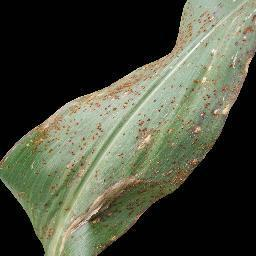Corn_Common_Rust: (32, 88, 245, 128), (0, 129, 223, 167), (175, 0, 256, 89), (22, 204, 155, 256), (0, 169, 189, 205), (106, 48, 174, 87)
